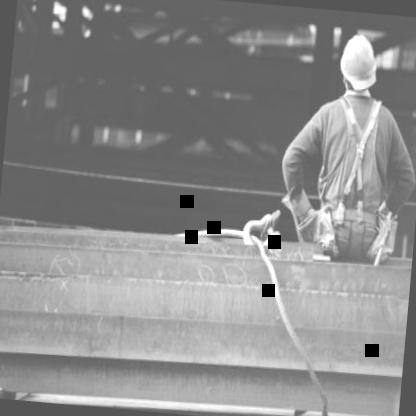helmet: (331, 30, 379, 102)
